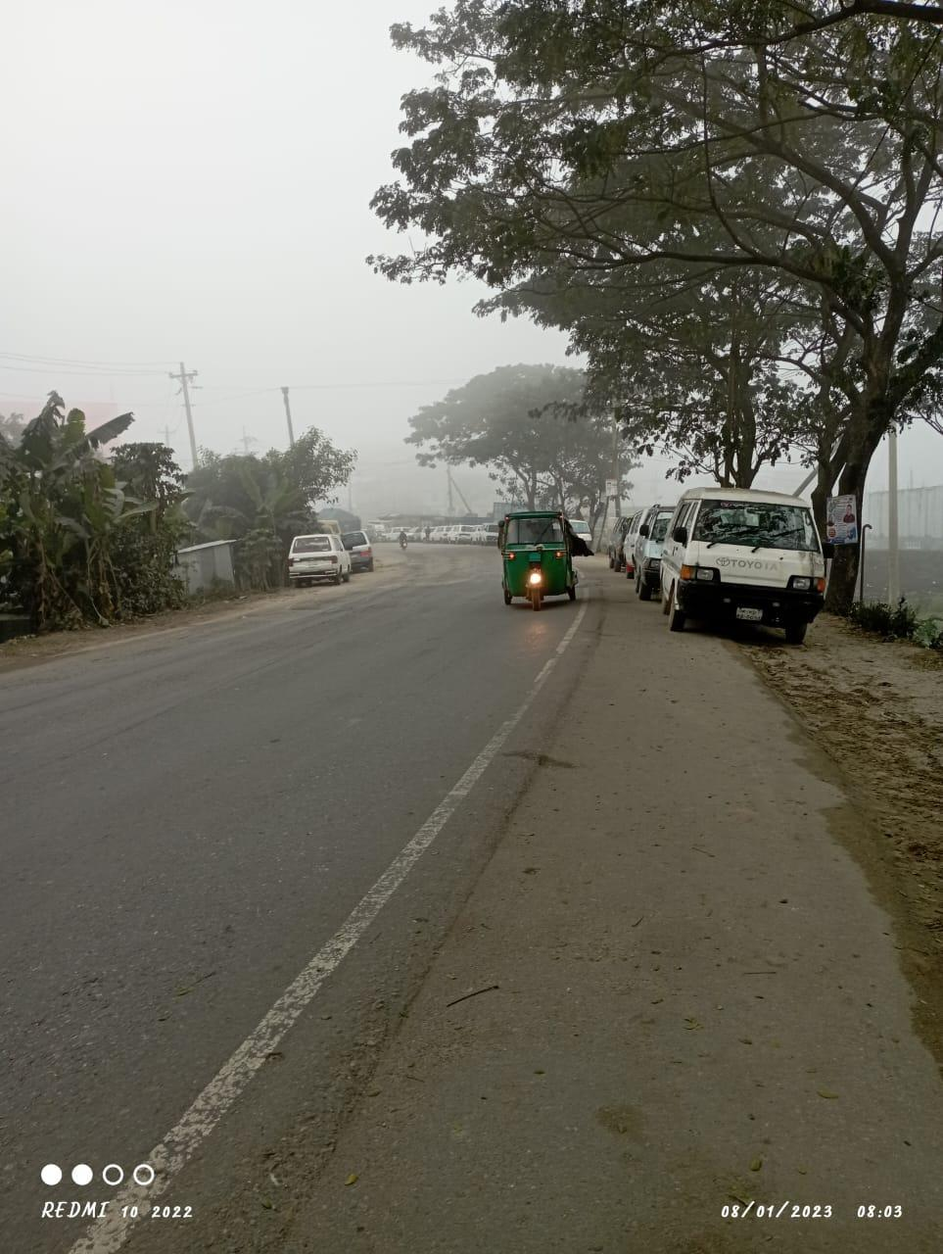Car: (667, 481, 836, 653), (275, 529, 354, 592)
